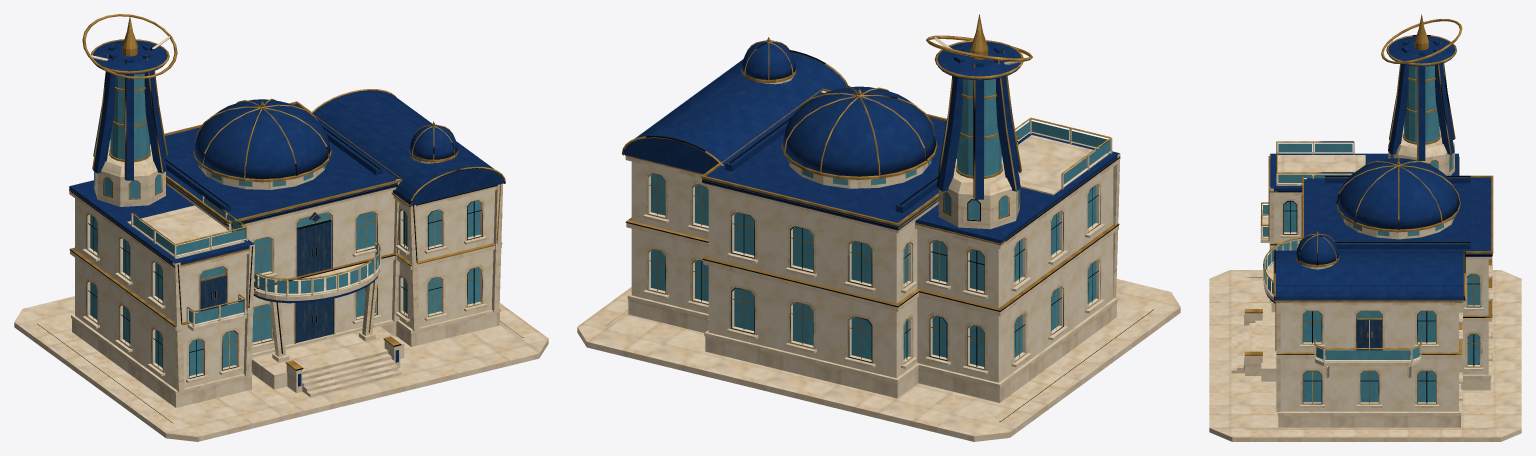
The model's file is meridian_palace_lite_textured.glb.
3 views of the same model, side by side, from view 1: azimuth 30°, elevation 25°; view 2: azimuth 150°, elevation 25°; view 3: azimuth 270°, elevation 25° (orthographic). The views are drawn at different scales.
Parts seen in each view (by area): view 1: meridian_palace_lite__Blue_roof, meridian_palace_lite__Base, meridian_palace_lite__Plaster, meridian_palace_lite__Limestone, meridian_palace_lite__Gold_trim, meridian_palace_lite__Glass, meridian_palace_lite__Doors; view 2: meridian_palace_lite__Plaster, meridian_palace_lite__Blue_roof, meridian_palace_lite__Base, meridian_palace_lite__Limestone, meridian_palace_lite__Glass, meridian_palace_lite__Gold_trim; view 3: meridian_palace_lite__Blue_roof, meridian_palace_lite__Base, meridian_palace_lite__Plaster, meridian_palace_lite__Limestone, meridian_palace_lite__Gold_trim, meridian_palace_lite__Glass, meridian_palace_lite__Doors.
Boxes of the visible parts, x1=… form: meridian_palace_lite__Blue_roof: x1=69, y1=40, x2=503, y2=386; meridian_palace_lite__Base: x1=14, y1=205, x2=548, y2=441; meridian_palace_lite__Plaster: x1=75, y1=190, x2=495, y2=389; meridian_palace_lite__Limestone: x1=37, y1=36, x2=523, y2=423; meridian_palace_lite__Gold_trim: x1=69, y1=14, x2=505, y2=378; meridian_palace_lite__Glass: x1=90, y1=73, x2=479, y2=375; meridian_palace_lite__Doors: x1=199, y1=221, x2=333, y2=343; meridian_palace_lite__Plaster: x1=631, y1=161, x2=1113, y2=382; meridian_palace_lite__Blue_roof: x1=623, y1=40, x2=1119, y2=243; meridian_palace_lite__Base: x1=577, y1=135, x2=1180, y2=441; meridian_palace_lite__Limestone: x1=605, y1=36, x2=1153, y2=421; meridian_palace_lite__Glass: x1=651, y1=75, x2=1109, y2=366; meridian_palace_lite__Gold_trim: x1=622, y1=14, x2=1120, y2=369; meridian_palace_lite__Blue_roof: x1=1244, y1=36, x2=1492, y2=369; meridian_palace_lite__Base: x1=1209, y1=155, x2=1521, y2=441; meridian_palace_lite__Plaster: x1=1274, y1=195, x2=1488, y2=411; meridian_palace_lite__Limestone: x1=1244, y1=57, x2=1492, y2=429; meridian_palace_lite__Gold_trim: x1=1244, y1=14, x2=1493, y2=404; meridian_palace_lite__Glass: x1=1263, y1=65, x2=1479, y2=402; meridian_palace_lite__Doors: x1=1357, y1=320, x2=1382, y2=350.
Bounding box in the file's own units: 23.95 × 19.45 × 18.9.
Materials: 7 (7 with a texture image).
